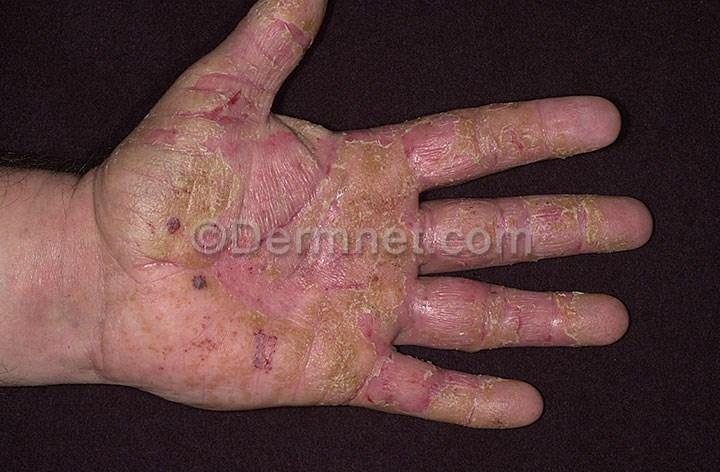Eczema: (239, 258, 383, 399), (293, 132, 414, 219), (120, 154, 270, 218), (188, 73, 269, 147), (460, 111, 577, 157), (537, 197, 617, 253), (461, 296, 544, 341), (452, 383, 516, 421), (561, 297, 614, 340), (261, 1, 315, 43), (181, 258, 219, 304), (390, 369, 435, 406)
